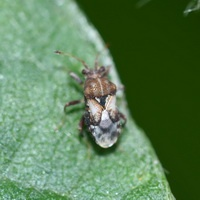insect: (55, 50, 126, 147)
